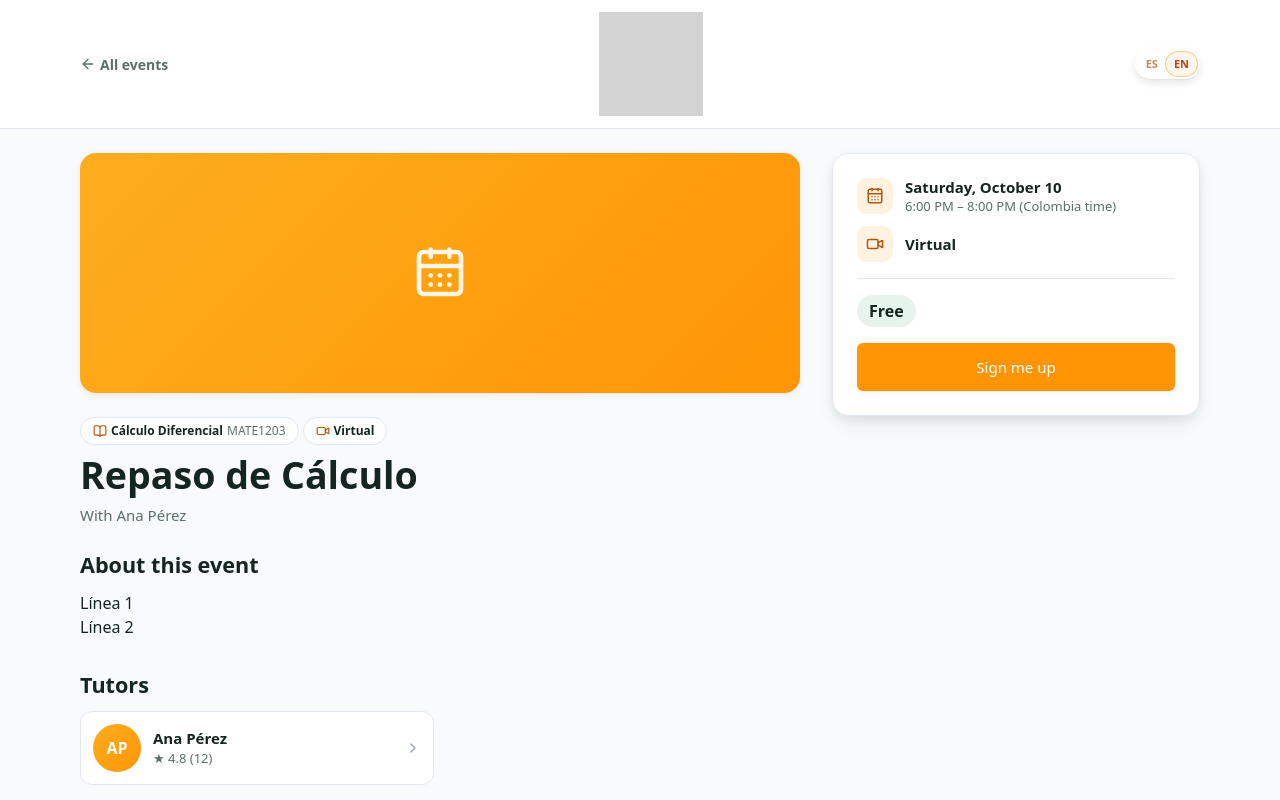
Scenario: EventDetailView › free registration: confirm → register → success state → refresh
What coordinates should you click on to do the following:
click the button "Sign me up"
I would click on:
 (1016, 367)
Its box is [857, 343, 1175, 391].
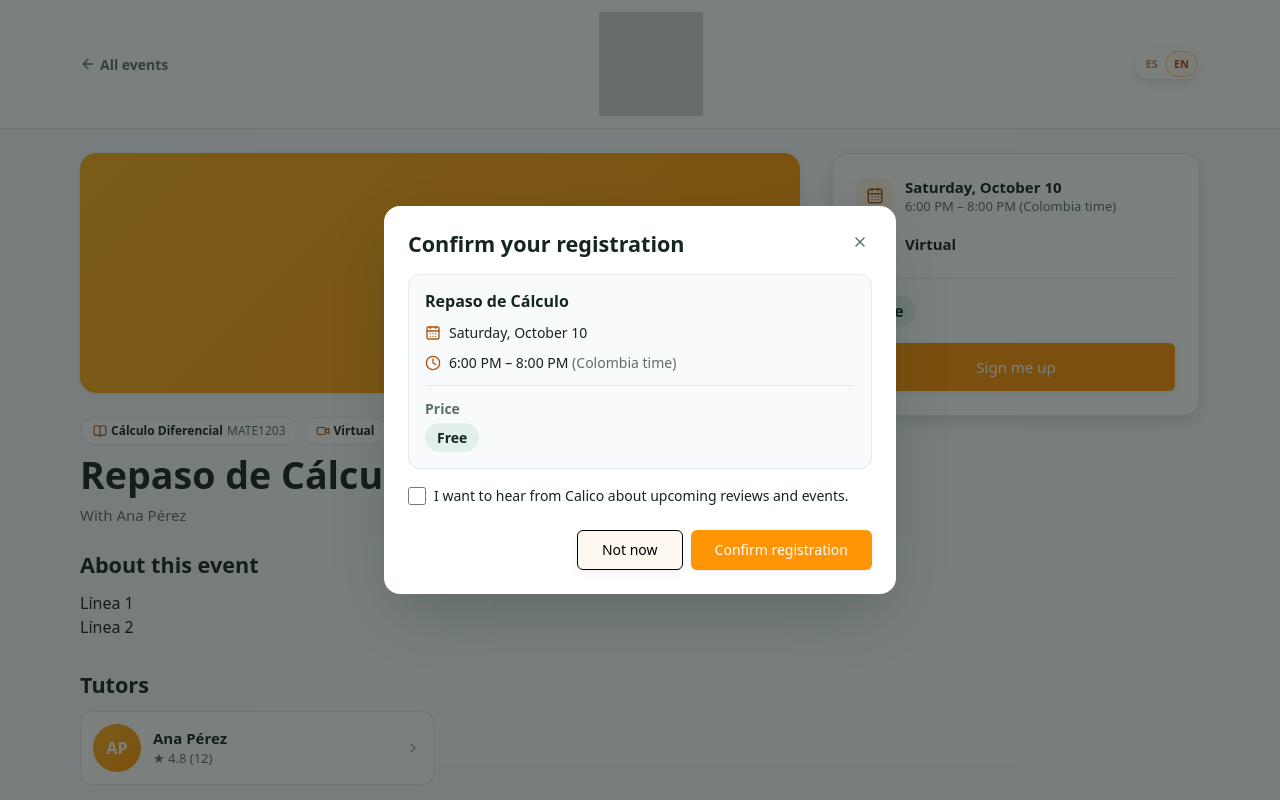
What coordinates should you click on to do the following:
click the checkbox
I would click on:
 (417, 496)
Its box is [408, 487, 426, 505].
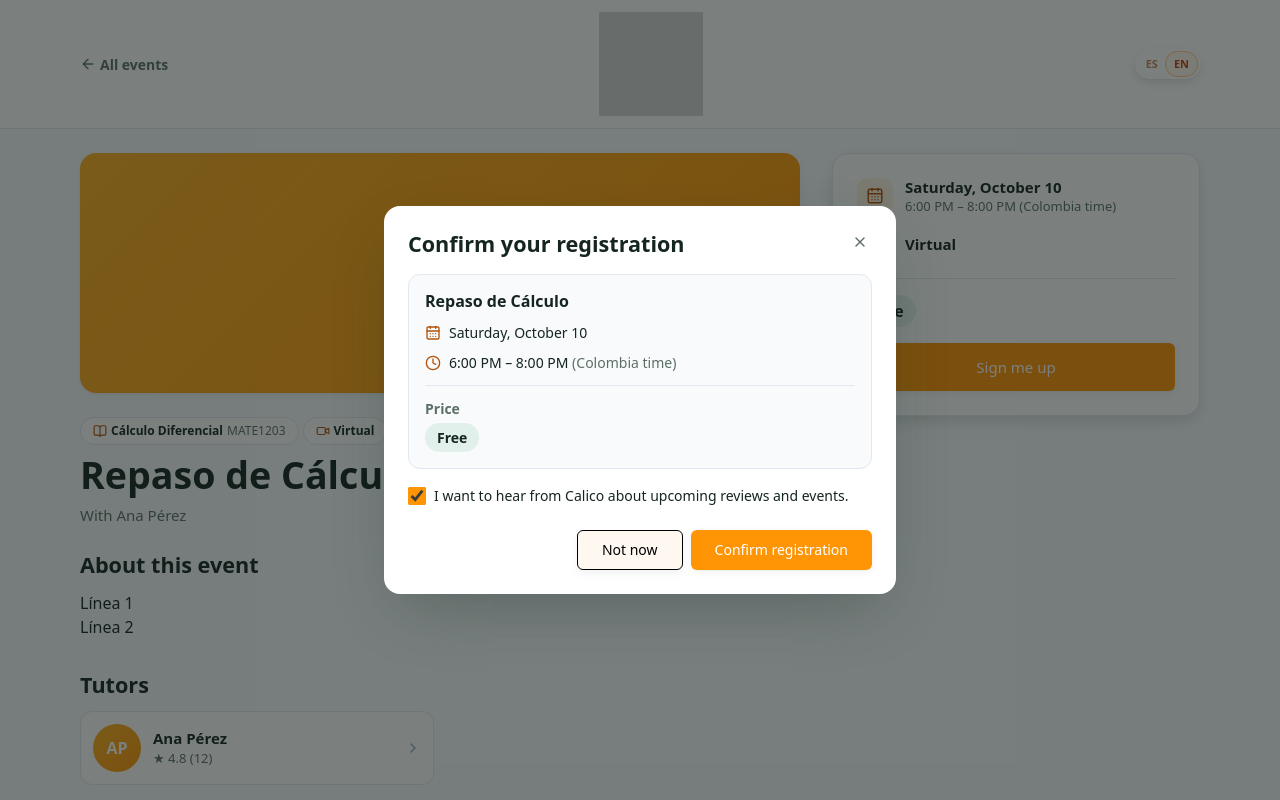
What coordinates should you click on to do the following:
click the button "Confirm registration"
I would click on:
 (781, 550)
Its box is [691, 530, 872, 570].
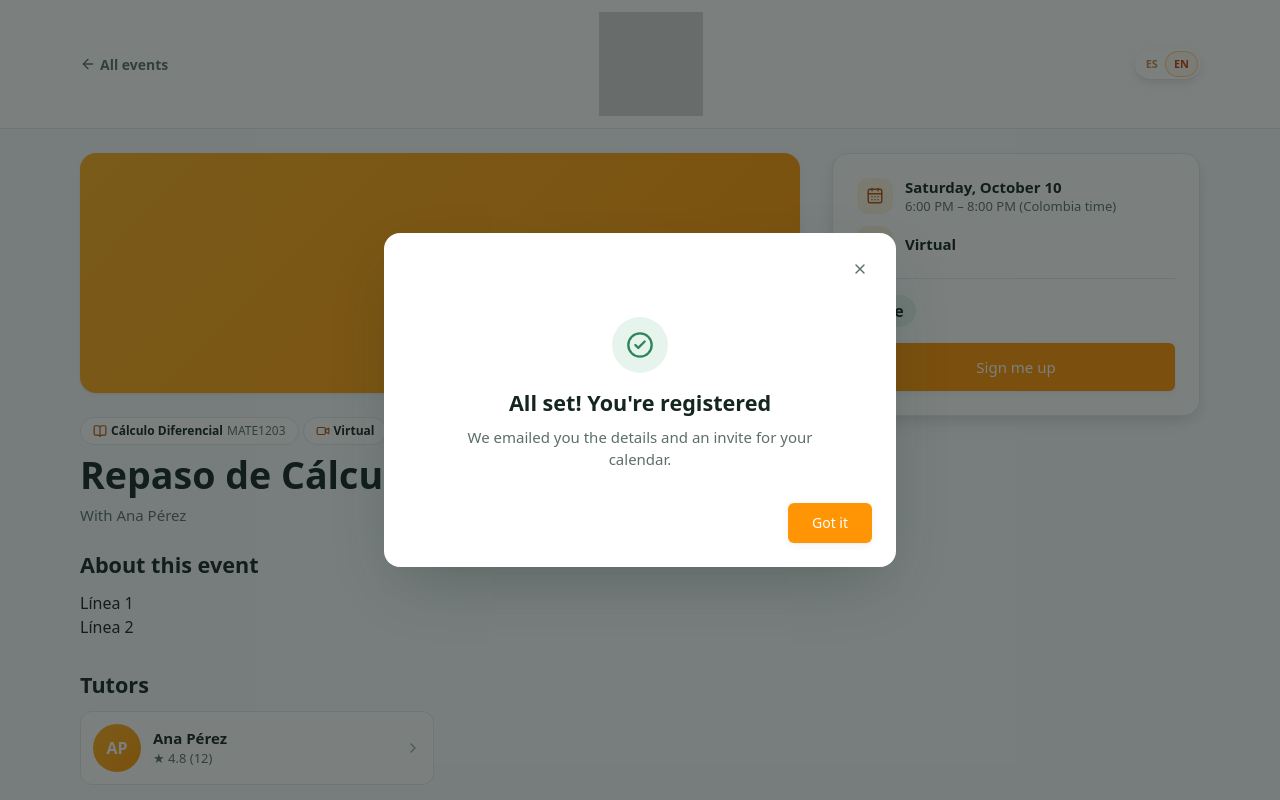
Now the heading "All set! You're registered" is shown, box [509, 390, 771, 418]
